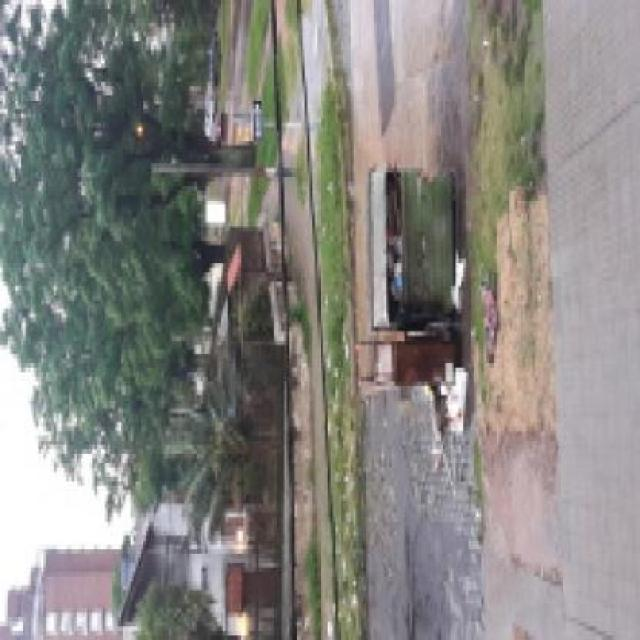garbage: (431, 350, 472, 436)
